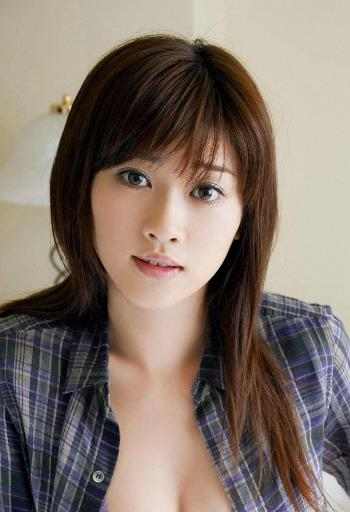left_eye: (189, 183, 228, 206)
left_lip_corner: (181, 264, 190, 279)
right_eye: (115, 168, 154, 192)
right_lip_corner: (129, 251, 142, 271)
